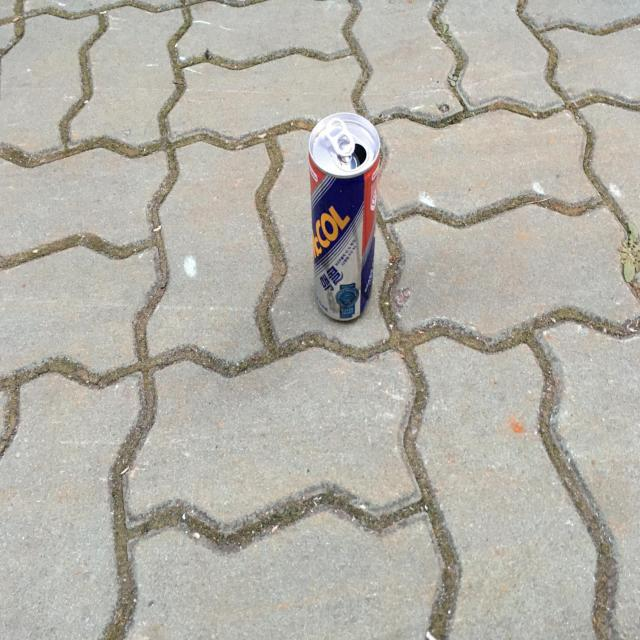can: (309, 112, 380, 320)
